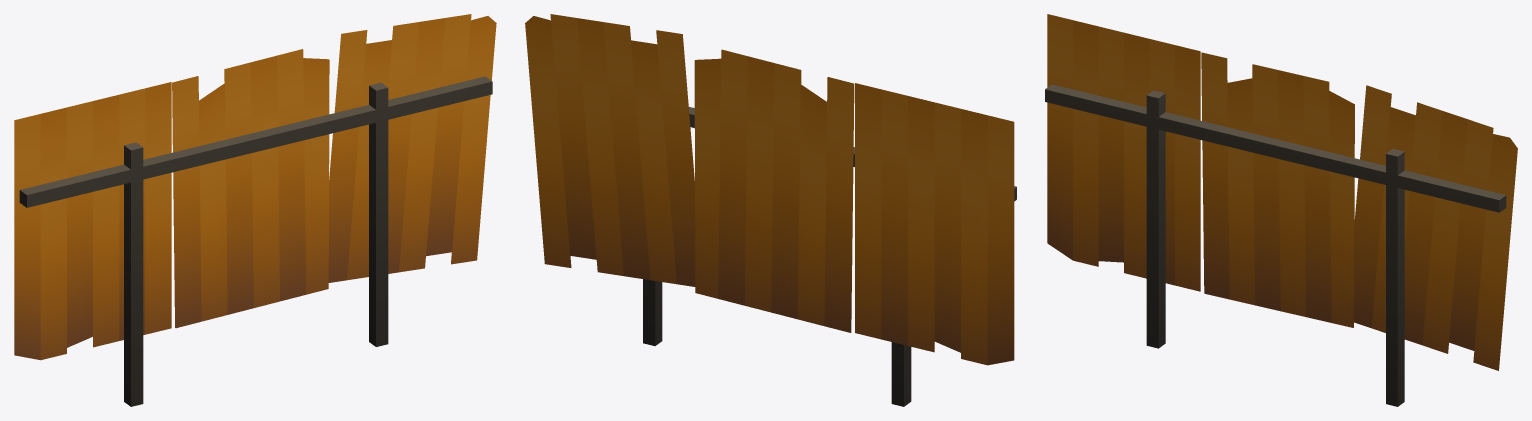
Rendered from Metal_Fence_1C.fbx.
The picture shows the model from 3 angles, left to right: view 1: azimuth 30°, elevation 25°; view 2: azimuth 150°, elevation 25°; view 3: azimuth 330°, elevation 25°; orthographic projection. The views are drawn at different scales.
Parts seen in each view (by area): view 1: Metal_Fence_1C; view 2: Metal_Fence_1C; view 3: Metal_Fence_1C.
Part boxes in pixels (x1,y1,x2,y2): Metal_Fence_1C: (14, 14, 496, 406); Metal_Fence_1C: (525, 14, 1016, 406); Metal_Fence_1C: (1045, 14, 1517, 406).
Bounding box in the file's own units: 393 × 245 × 10.86.
